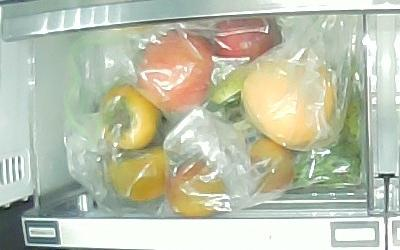apple_vinyl: (138, 31, 214, 110), (214, 17, 283, 60)
grapefruit_vinyl: (242, 53, 338, 151)
persimmon_vinyl: (100, 84, 162, 150), (106, 147, 172, 201)
prune_vinyl: (169, 161, 227, 217), (250, 137, 295, 194)
